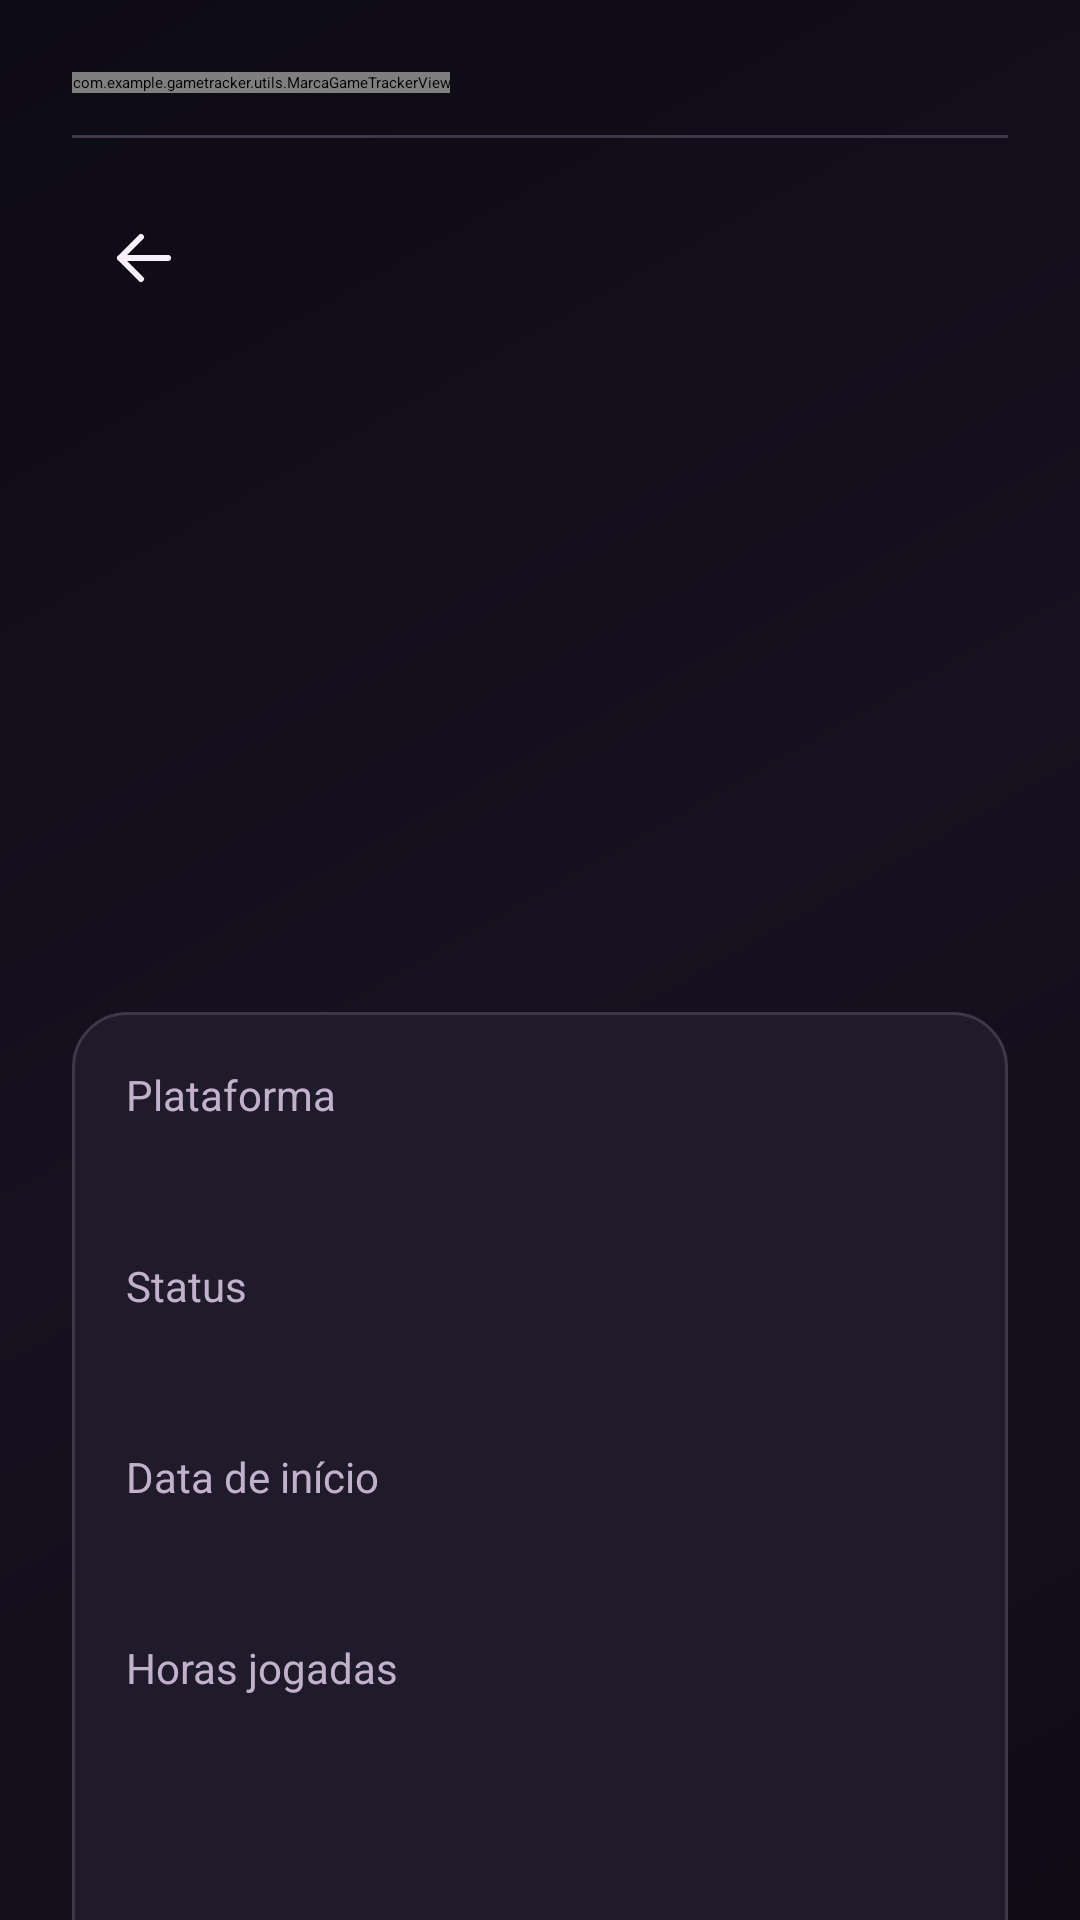

Icons on this 1080×1920 Android screen, each with the point to tap as (x=x, y=y):
← Voltar: (x=144, y=258)
